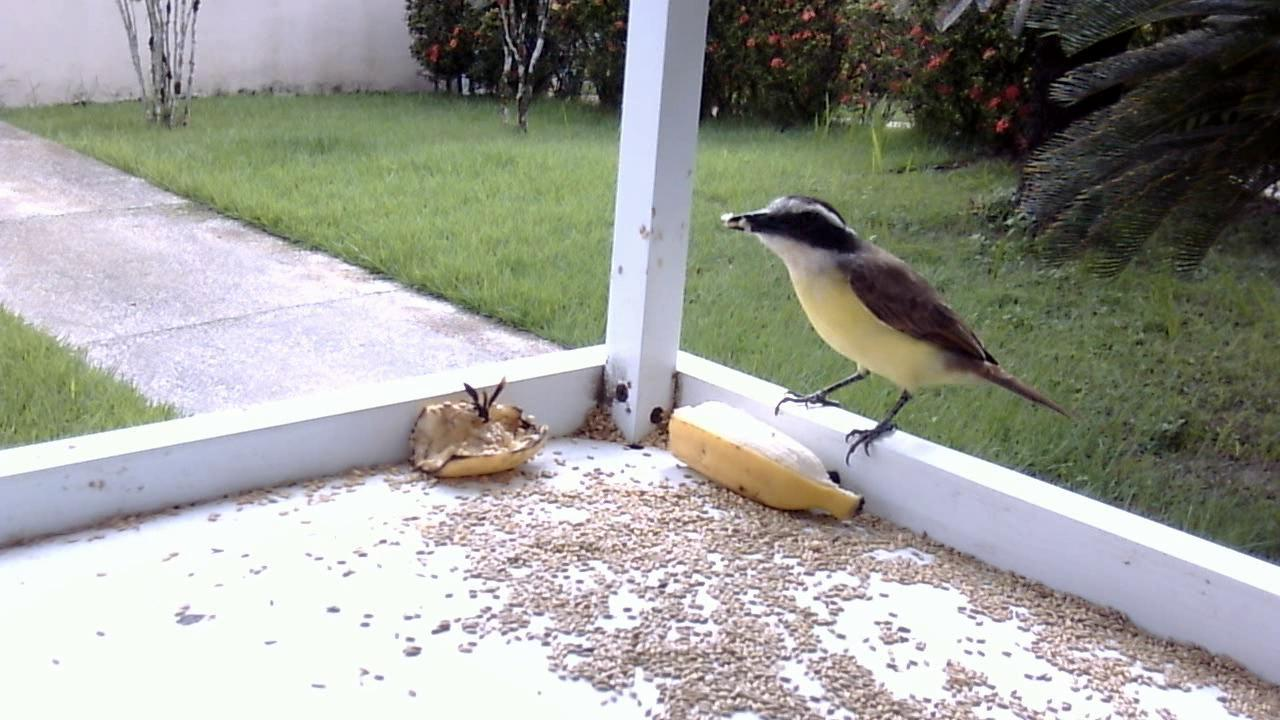bem_te_vi: (705, 178, 1088, 482)
